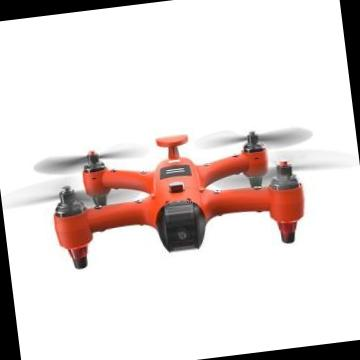drone: (19, 102, 336, 282)
